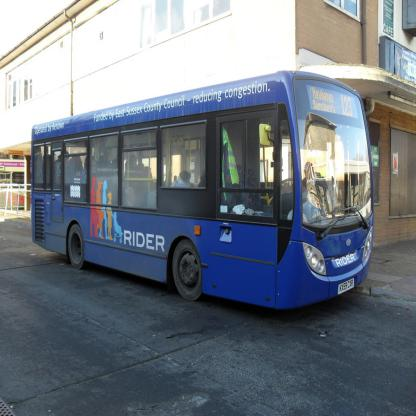Bus: (31, 70, 374, 310)
